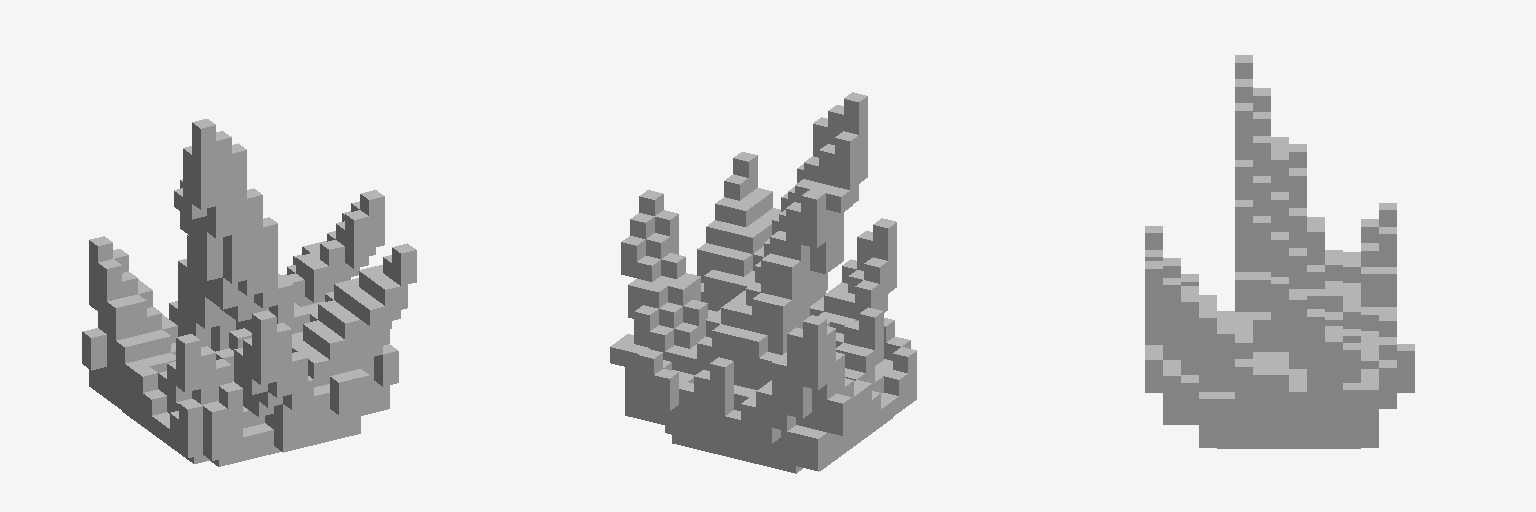
The model's file is MineralDeposite_Large-0.obj.
3 views of the same model, side by side, from view 1: azimuth 30°, elevation 25°; view 2: azimuth 150°, elevation 25°; view 3: azimuth 270°, elevation 25° (orthographic).
Parts seen in each view (by area): view 1: Untitled.002; view 2: Untitled.002; view 3: Untitled.002.
Boxes of the visible parts, <box> form: Untitled.002: <box>82,119,416,466</box>; Untitled.002: <box>610,92,916,473</box>; Untitled.002: <box>1145,55,1414,448</box>.
Size of the model in its own units: 1.6 by 2 by 1.5.